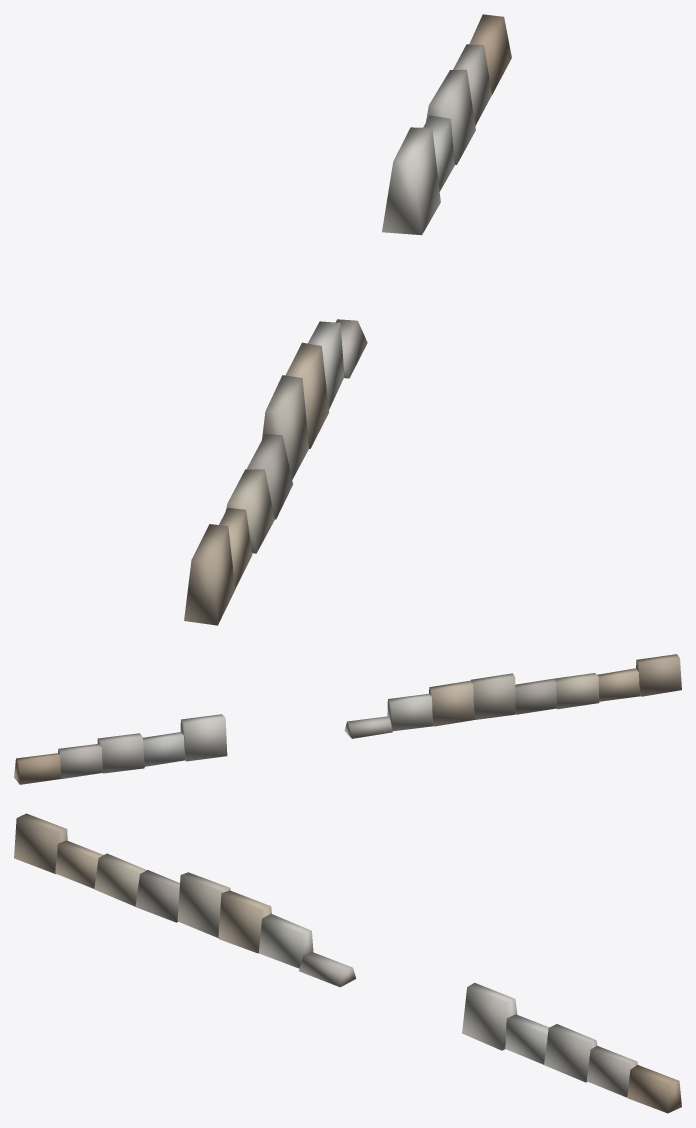
File: farm_25_19_far.glb
3 renders of one model, top to bottom at view 1: azimuth 30°, elevation 25°; view 2: azimuth 150°, elevation 25°; view 3: azimuth 270°, elevation 25°, orthographic. The views are drawn at different scales.
Visible parts, largest first — view 1: geometry_0; view 2: geometry_0; view 3: geometry_0.
Boxes of the visible parts, left/top/right/bottom form: geometry_0: left=184, top=14, right=511, bottom=625; geometry_0: left=14, top=654, right=681, bottom=784; geometry_0: left=14, top=813, right=681, bottom=1113.
Size of the model in its own units: 17.49 by 1.57 by 19.18.
